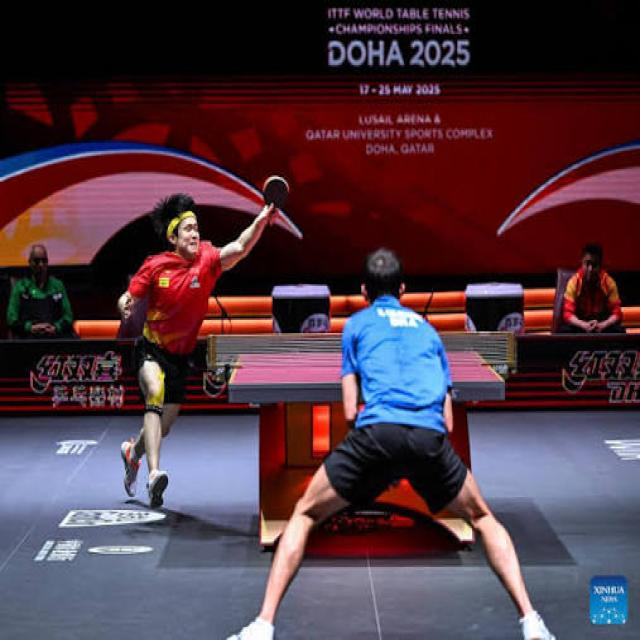TT Net: (207, 331, 518, 371)
TT Racket: (259, 169, 294, 216)
TT Table: (230, 349, 506, 387)
